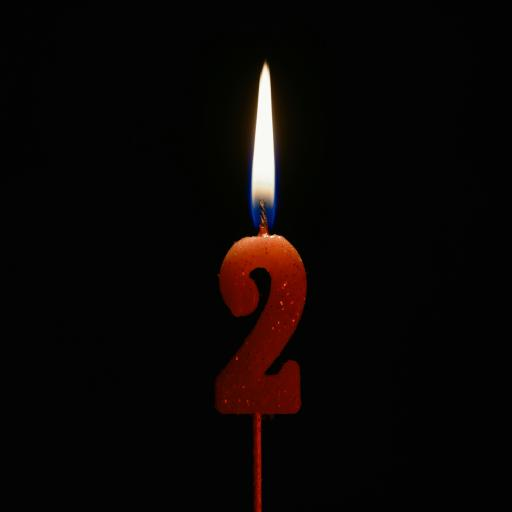candlelight: (201, 57, 321, 474)
fire: (242, 57, 286, 245)
